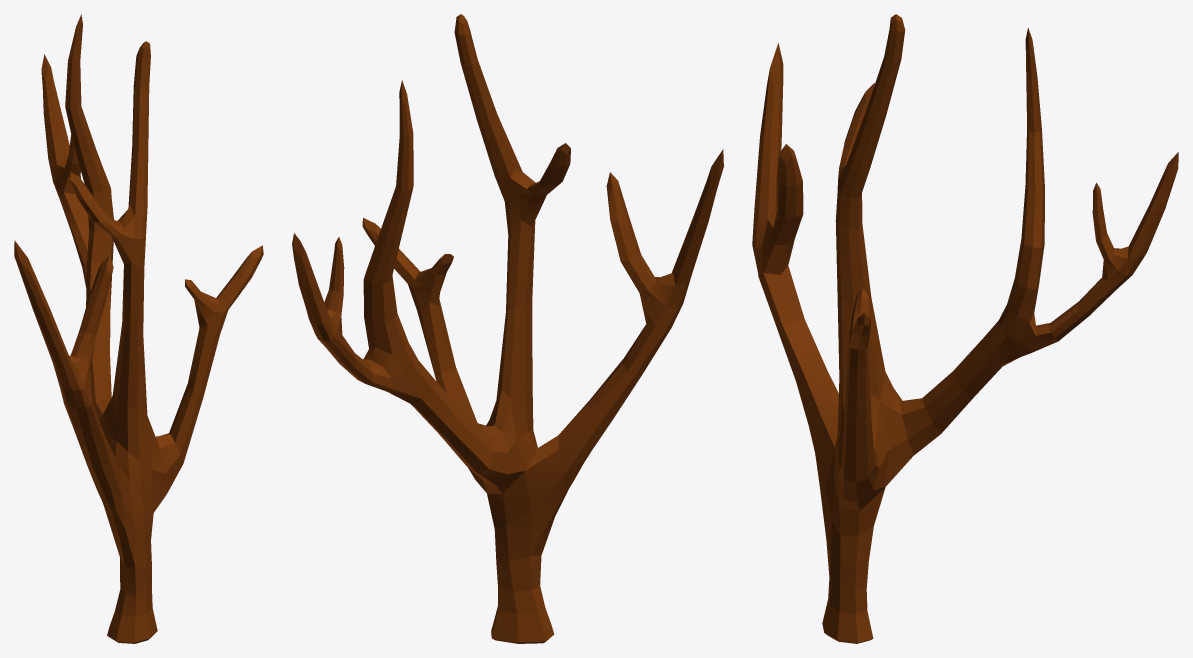
File: tree3.obj
3 renders of one model, left to right at view 1: azimuth 30°, elevation 25°; view 2: azimuth 150°, elevation 25°; view 3: azimuth 270°, elevation 25°, orthographic. The views are drawn at different scales.
Visible parts, largest first — view 1: Tree_3_Cube.016; view 2: Tree_3_Cube.016; view 3: Tree_3_Cube.016.
Part boxes in pixels (x1,y1,x2,y2): Tree_3_Cube.016: (14, 14, 263, 643); Tree_3_Cube.016: (292, 14, 723, 643); Tree_3_Cube.016: (752, 14, 1178, 643).
Bounding box in the file's own units: 5.5 × 10.42 × 6.32.
